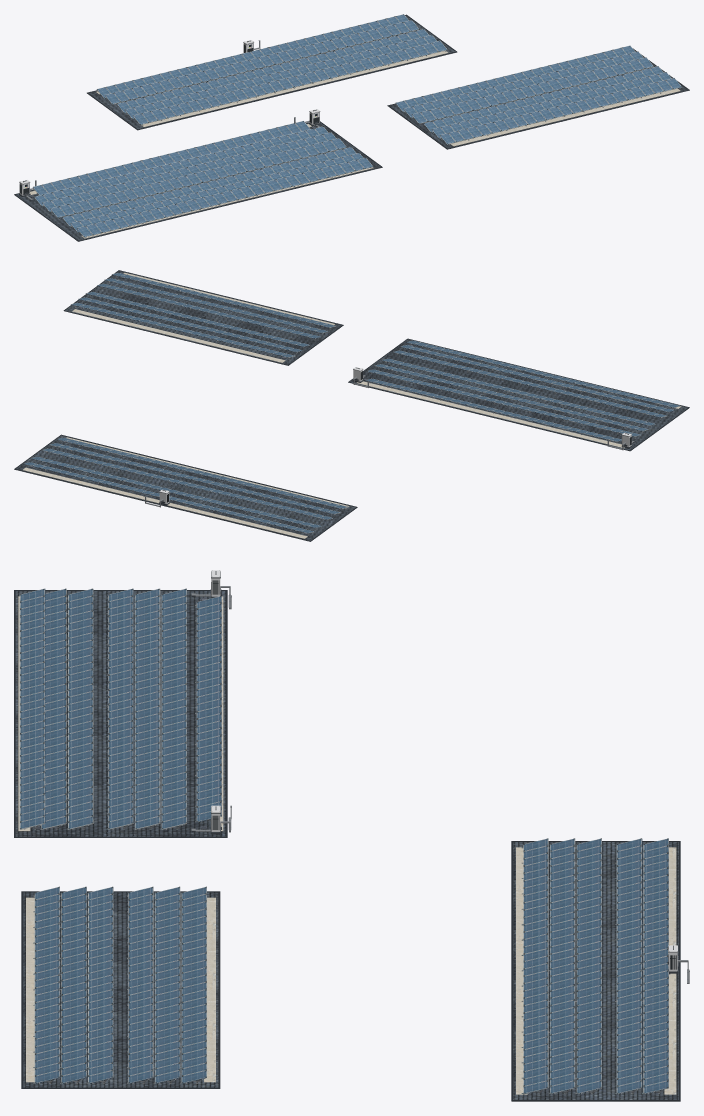
3 views of the same model, one above another, from view 1: azimuth 30°, elevation 25°; view 2: azimuth 150°, elevation 25°; view 3: azimuth 270°, elevation 25° (orthographic). The views are drawn at different scales.
Visible parts, largest first — view 1: pv-roof_membrane_A, pv-roof_membrane_lab, pv-roof_membrane_B, pv-roof_walkway_lab_S, pv-roof_walkway_B_S, PV_Mount_A, PV_Mount_LAB, PV_Mount_B, pv-roof_walkway_A_S, pv-roof_edge_lab_S, pv-roof_edge_A_S; view 2: pv-roof_membrane_A, pv-roof_membrane_lab, pv-roof_membrane_B, PV_Mount_A, pv-roof_walkway_lab_N, pv-roof_walkway_A_N, PV_Mount_LAB, PV_Mount_B, pv-roof_walkway_B_N, pv-roof_walkway_lab_S, pv-roof_walkway_B_S; view 3: pv-roof_membrane_A, pv-roof_membrane_lab, pv-roof_membrane_B, PV_Mount_A, PV_Mount_LAB, pv-roof_walkway_lab_S, PV_Mount_B, pv-roof_walkway_lab_N, pv-roof_walkway_B_N, pv-roof_walkway_B_S.
Part boxes in pixels (x1,y1,x2,y2): pv-roof_membrane_A: [14, 122, 382, 241]; pv-roof_membrane_lab: [87, 15, 457, 130]; pv-roof_membrane_B: [388, 50, 689, 149]; pv-roof_walkway_lab_S: [141, 50, 448, 126]; pv-roof_walkway_B_S: [450, 88, 680, 146]; PV_Mount_A: [33, 121, 372, 237]; PV_Mount_LAB: [97, 14, 446, 125]; PV_Mount_B: [396, 47, 681, 145]; pv-roof_walkway_A_S: [81, 167, 373, 238]; pv-roof_edge_lab_S: [137, 51, 456, 129]; pv-roof_edge_A_S: [78, 167, 382, 241]; pv-roof_membrane_A: [348, 339, 688, 451]; pv-roof_membrane_lab: [14, 435, 357, 541]; pv-roof_membrane_B: [64, 270, 343, 365]; PV_Mount_A: [367, 340, 680, 443]; pv-roof_walkway_lab_N: [23, 467, 307, 538]; pv-roof_walkway_A_N: [357, 381, 624, 448]; PV_Mount_LAB: [24, 437, 347, 535]; PV_Mount_B: [71, 272, 335, 359]; pv-roof_walkway_B_N: [72, 309, 285, 362]; pv-roof_walkway_lab_S: [66, 437, 348, 508]; pv-roof_walkway_B_S: [123, 273, 334, 324]; pv-roof_membrane_A: [14, 591, 227, 837]; pv-roof_membrane_lab: [511, 842, 680, 1101]; pv-roof_membrane_B: [21, 892, 219, 1088]; PV_Mount_A: [20, 588, 221, 829]; PV_Mount_LAB: [521, 838, 668, 1094]; pv-roof_walkway_lab_S: [516, 847, 527, 1094]; PV_Mount_B: [33, 886, 206, 1083]; pv-roof_walkway_lab_N: [664, 847, 676, 1094]; pv-roof_walkway_B_N: [204, 897, 215, 1082]; pv-roof_walkway_B_S: [26, 897, 34, 1082].
Bounding box in the file's own units: 79.4 × 7.88 × 45.53.
25 materials, 8 textured.
